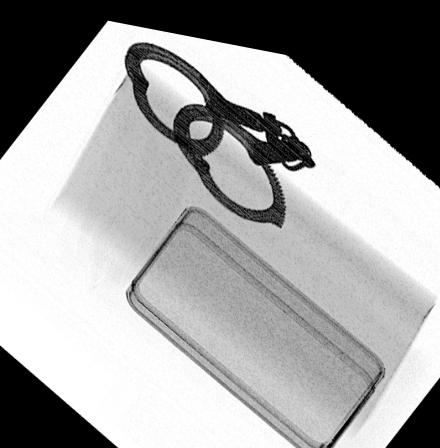HandCuffs: (122, 32, 318, 217)
